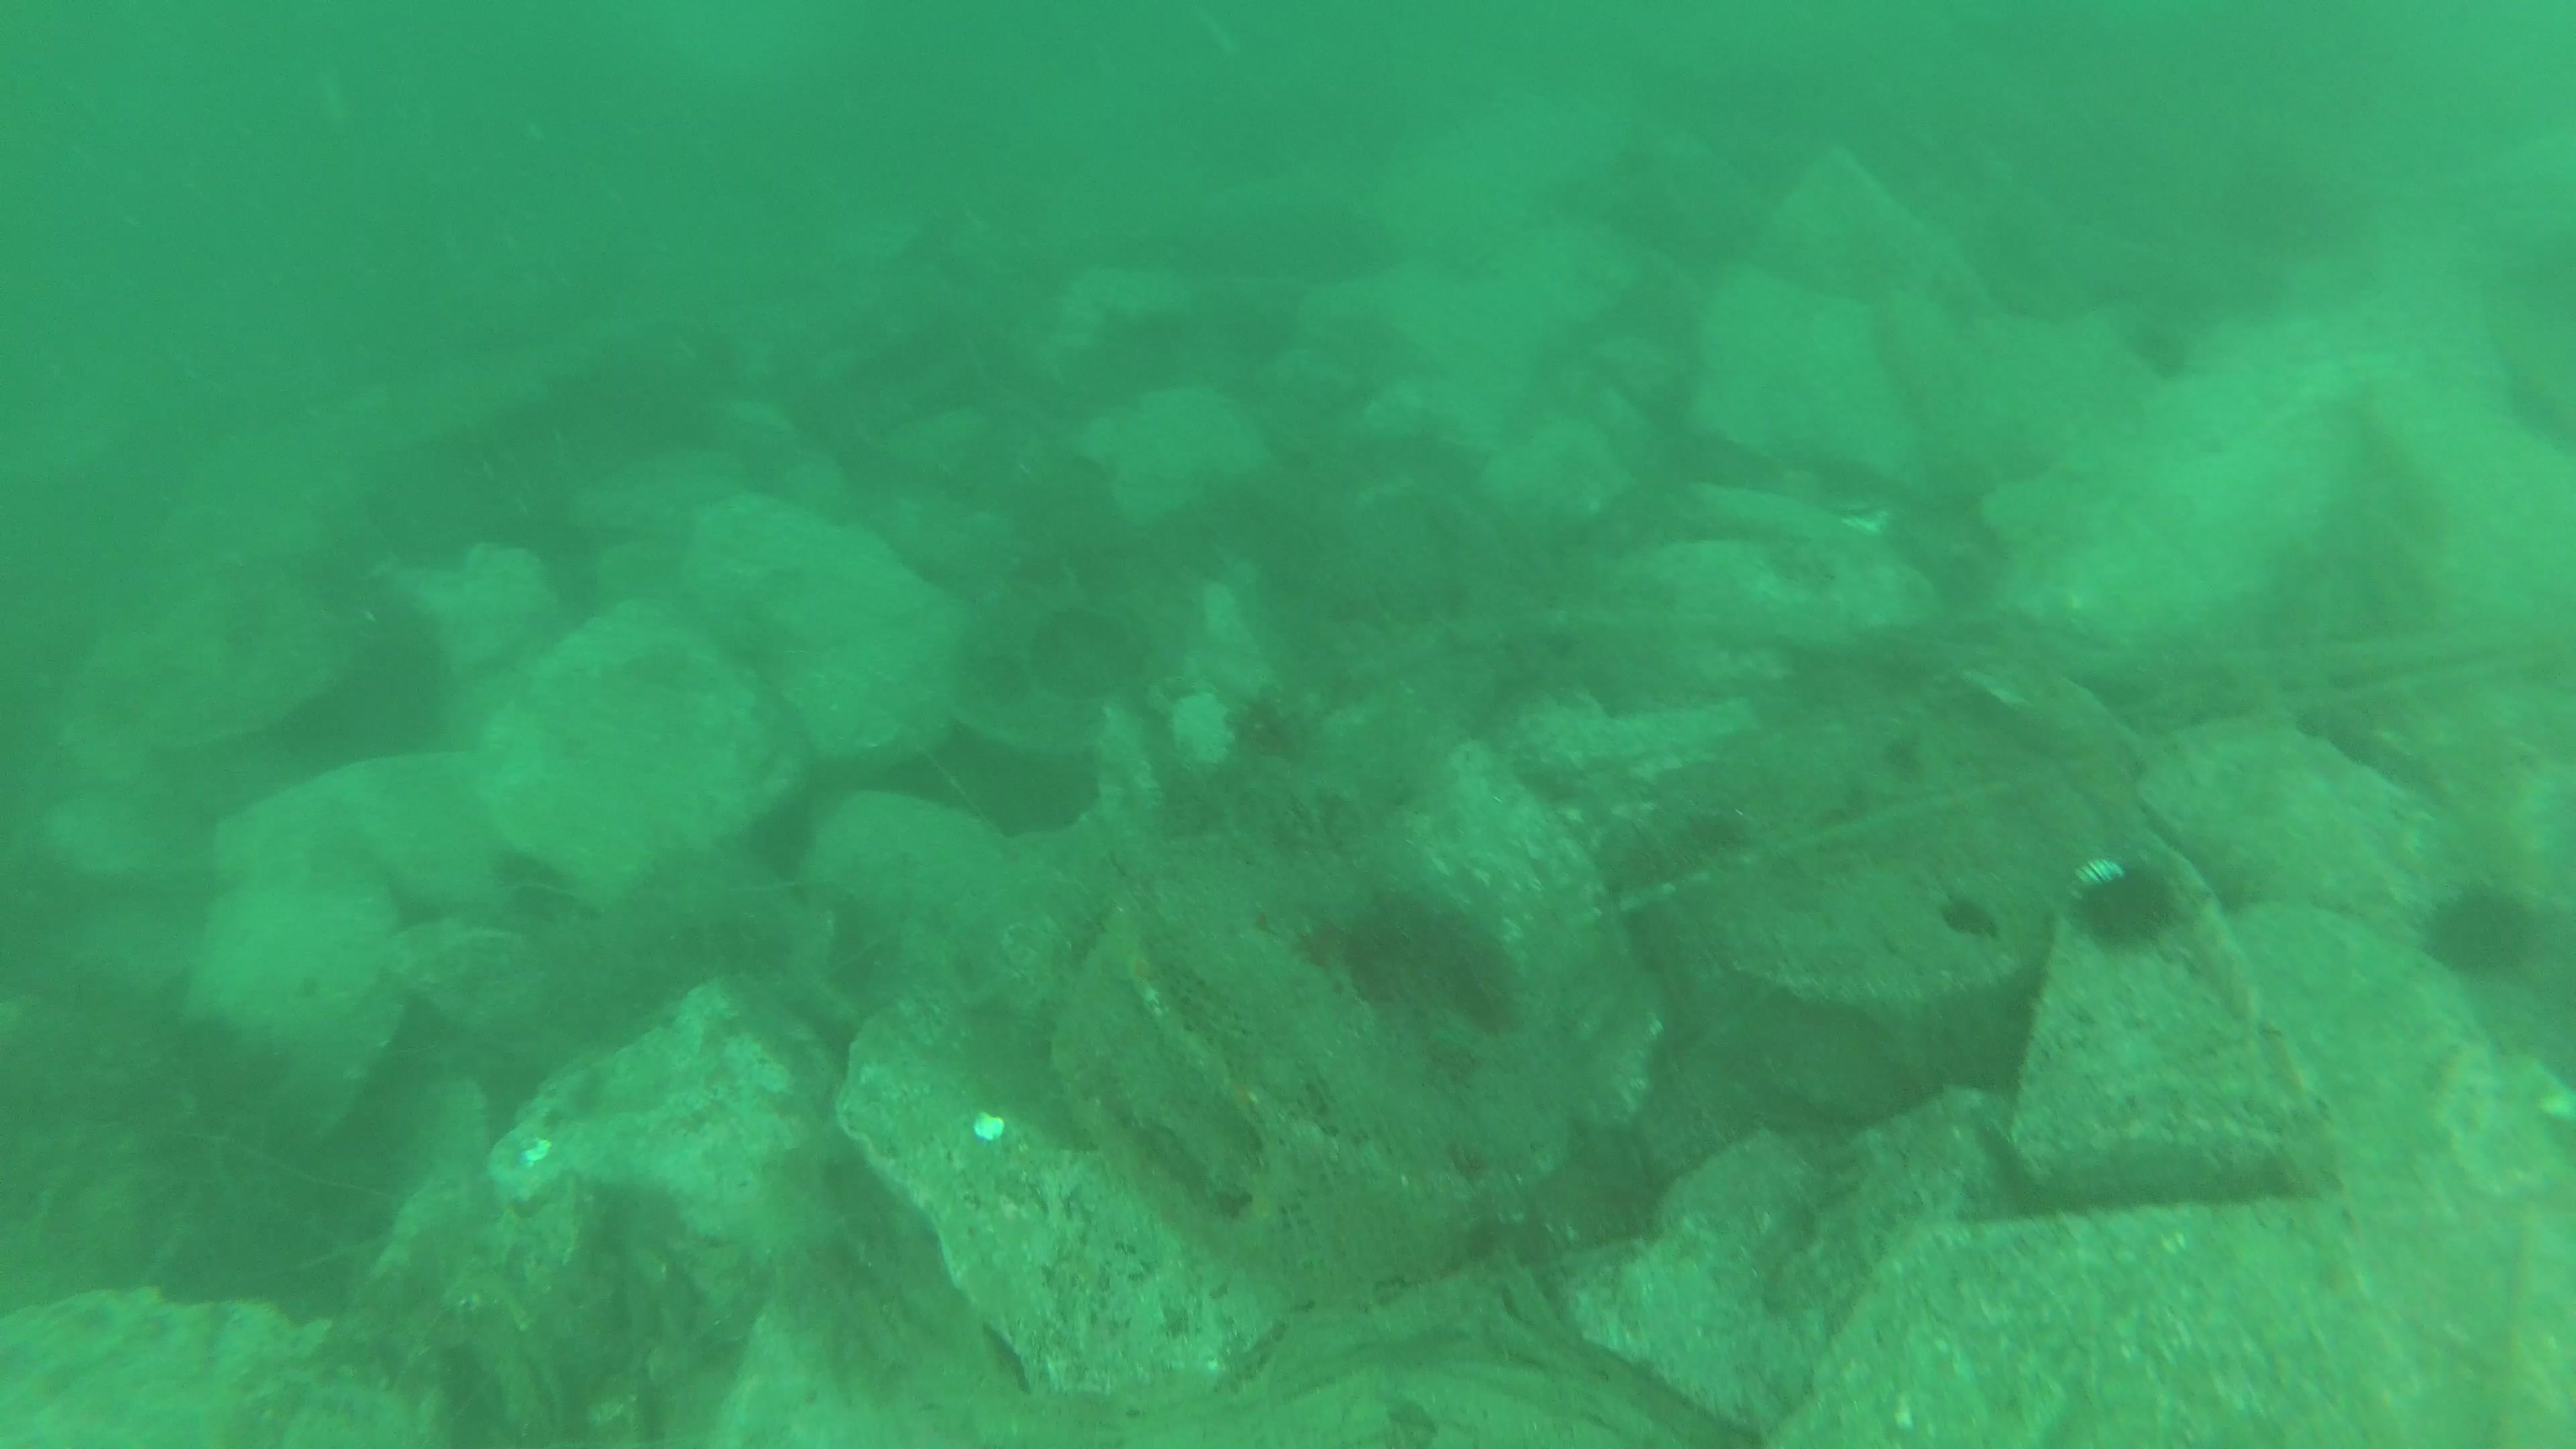echinus: (2411, 874, 2534, 975), (2072, 855, 2171, 961)
